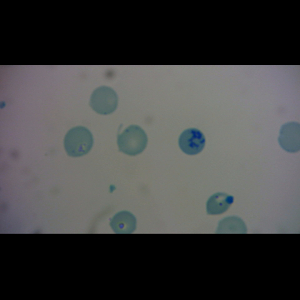aggregate reticulocyte: (178, 128, 207, 156)
erythrocyte: (64, 126, 95, 158), (205, 191, 236, 217), (108, 210, 138, 234)
punctate reticulocyte: (115, 125, 148, 156), (89, 85, 120, 116)
